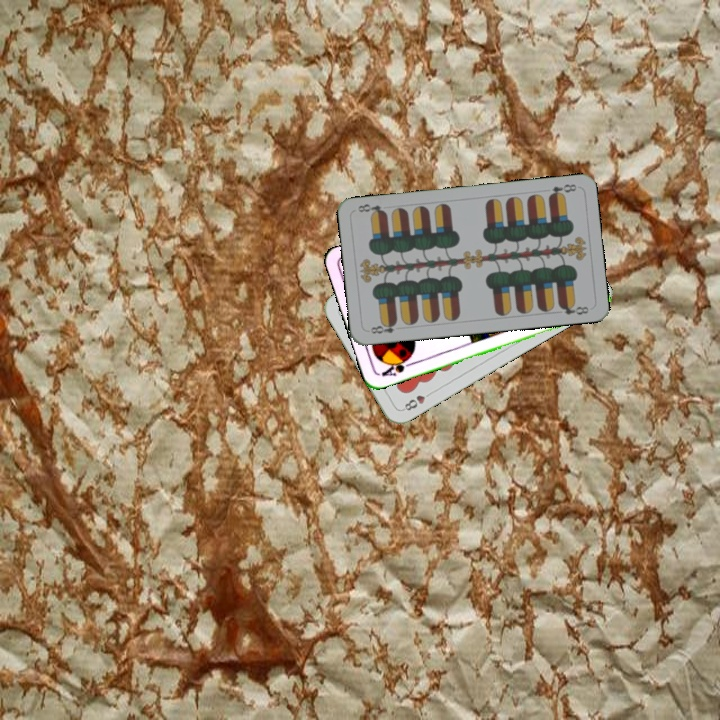E8: (544, 180, 579, 200), (366, 318, 399, 336)
H8: (398, 387, 435, 413)
SA: (377, 353, 417, 379)
